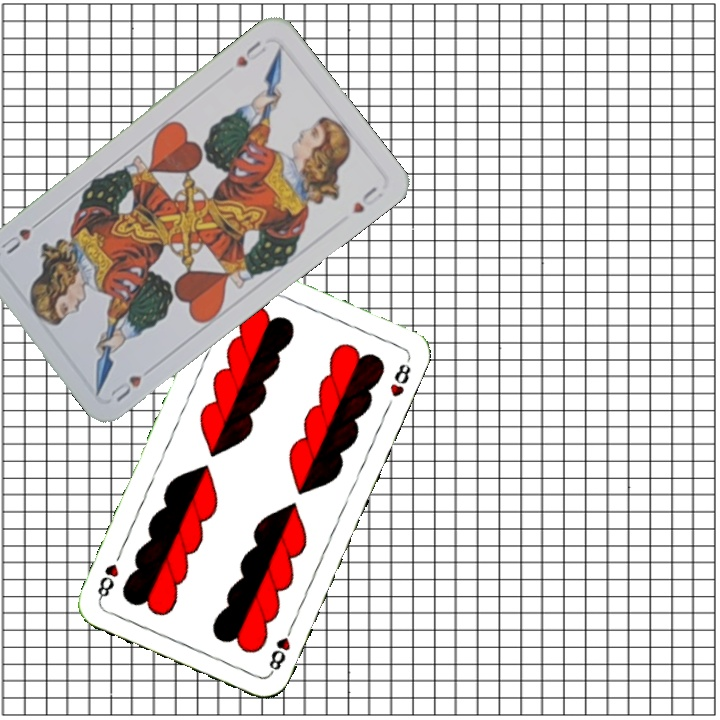H8: (265, 620, 296, 677)
HU: (231, 36, 269, 71), (106, 371, 145, 405)
